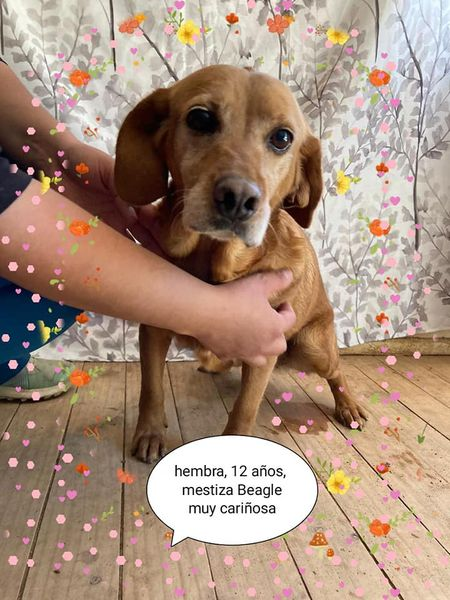dog: (111, 51, 367, 443)
